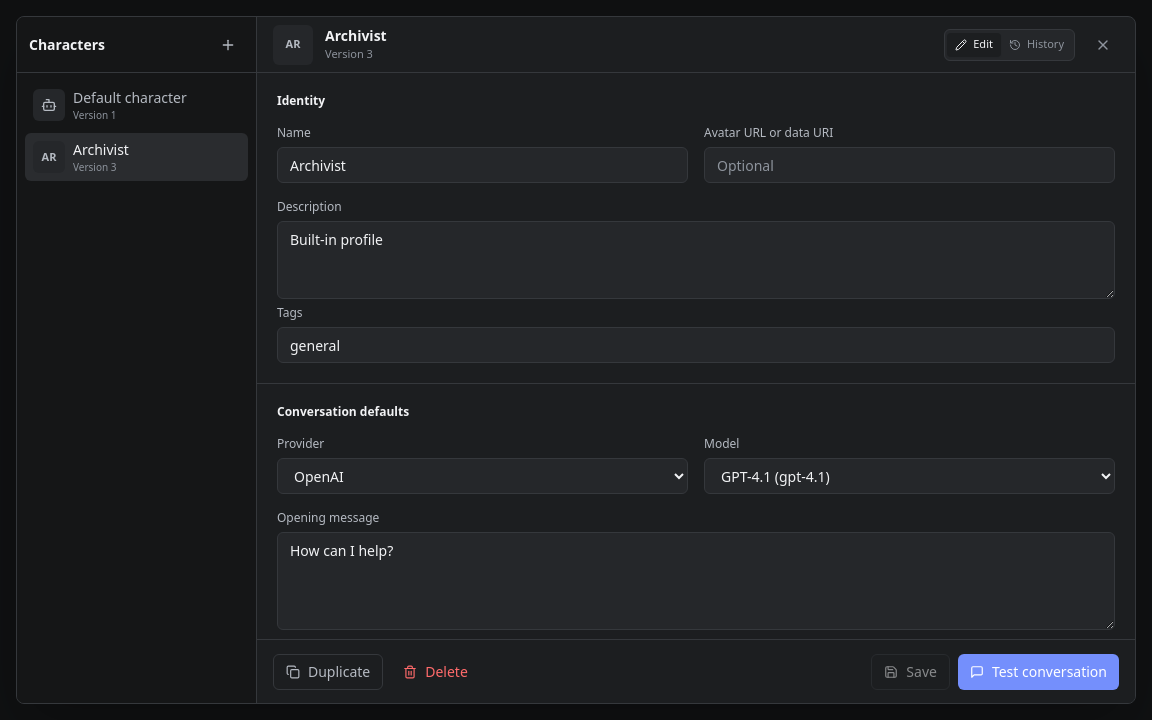
Test: CharacterManager › loads a versioned profile and protects the default character
The width and height of the screenshot is (1152, 720).
Expected: the field labelled "Name" holds "Archivist", [277, 147, 688, 183]
Click the text "Default character".
click(130, 97)  # box [73, 88, 187, 106]
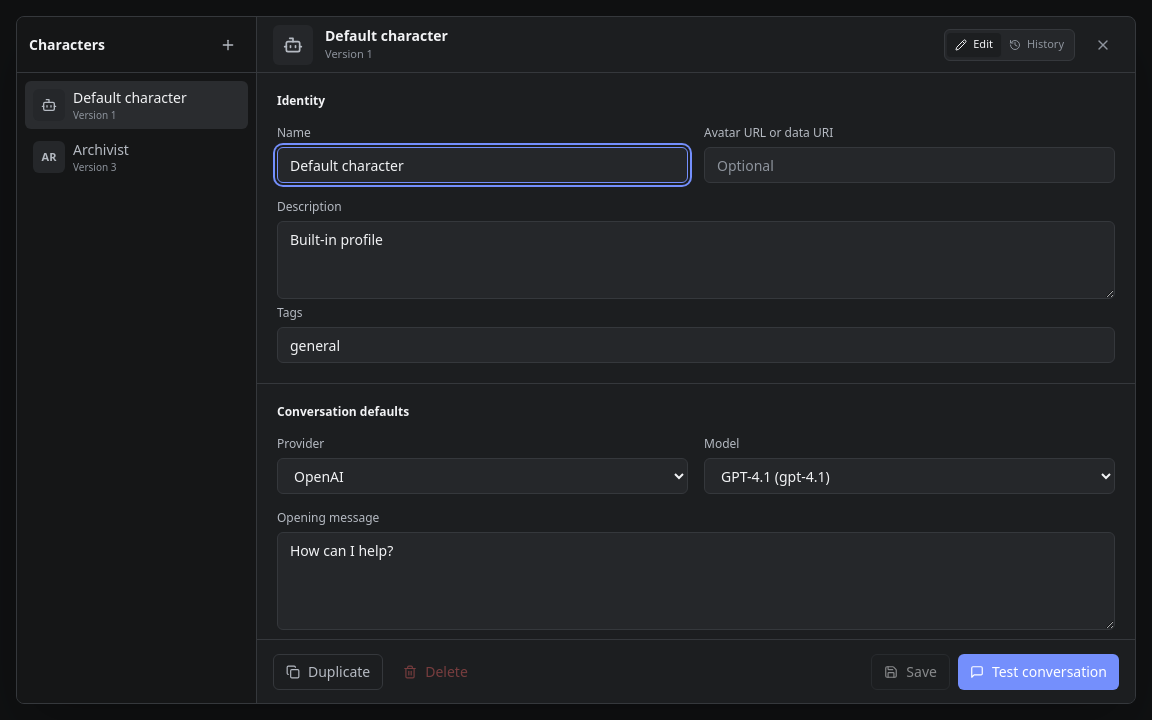
Now the button "Delete" is disabled, box [391, 654, 480, 690]
